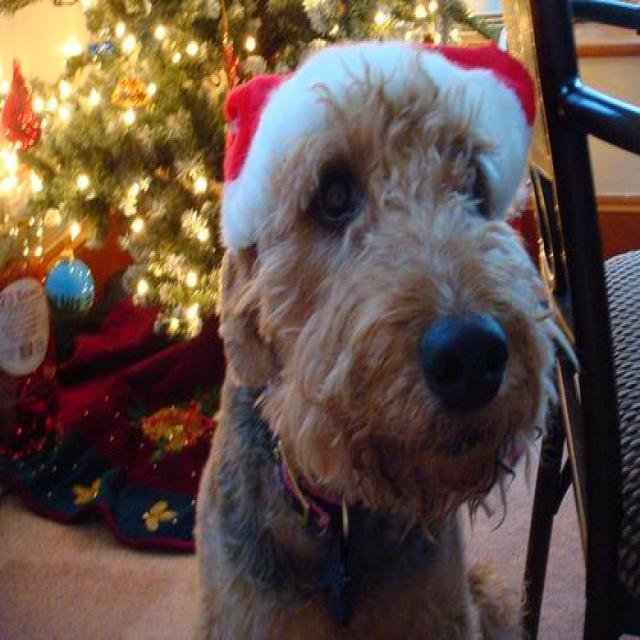airedale: (196, 36, 558, 638)
